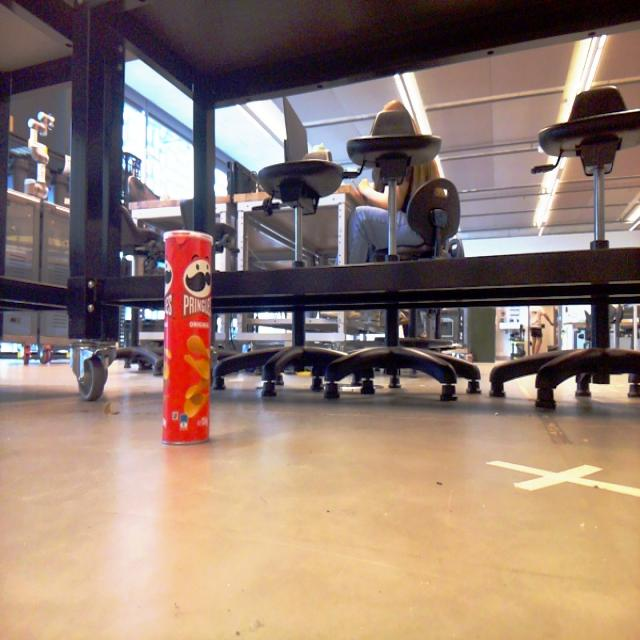redpringles: (152, 217, 225, 453)
